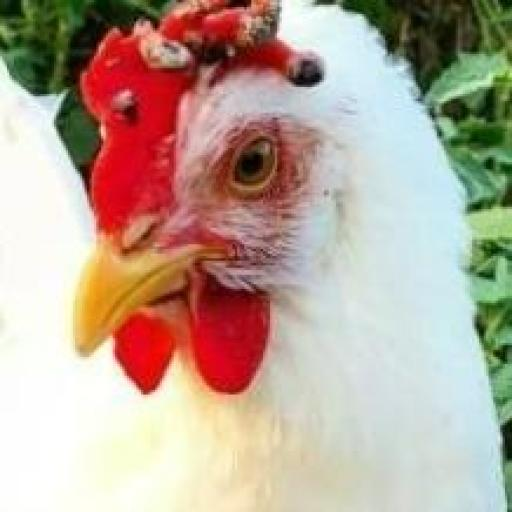disease: (133, 0, 331, 91), (98, 85, 151, 129)
